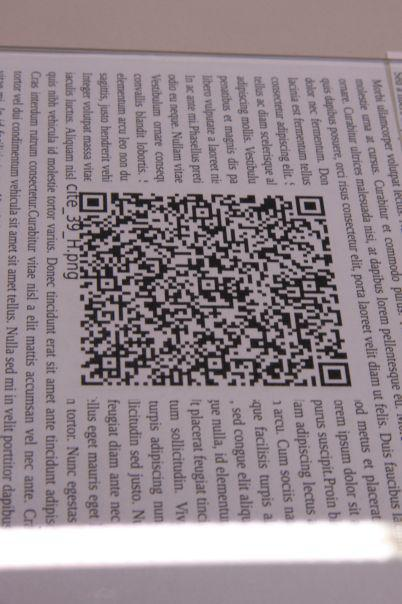Finder pattern: (310, 356, 357, 390), (73, 187, 112, 218), (292, 191, 331, 221)
